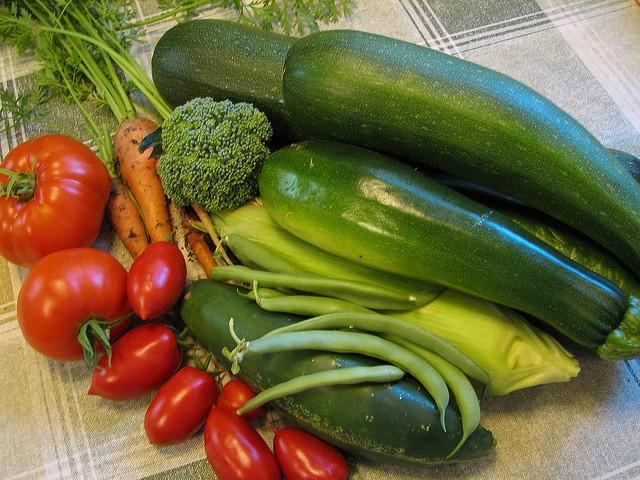broccoli: (155, 96, 273, 214)
carrot: (114, 118, 172, 243), (109, 178, 149, 261), (191, 202, 234, 266), (183, 214, 217, 280)
corn: (212, 194, 582, 396)
tomato: (0, 134, 111, 268), (17, 248, 133, 370), (144, 348, 228, 446), (88, 323, 182, 401), (204, 404, 281, 480), (126, 242, 186, 320), (272, 427, 349, 479), (215, 379, 267, 423)
vegetable marrow: (283, 29, 640, 275), (259, 138, 639, 362), (150, 18, 640, 184), (178, 280, 498, 469), (386, 152, 640, 296)
